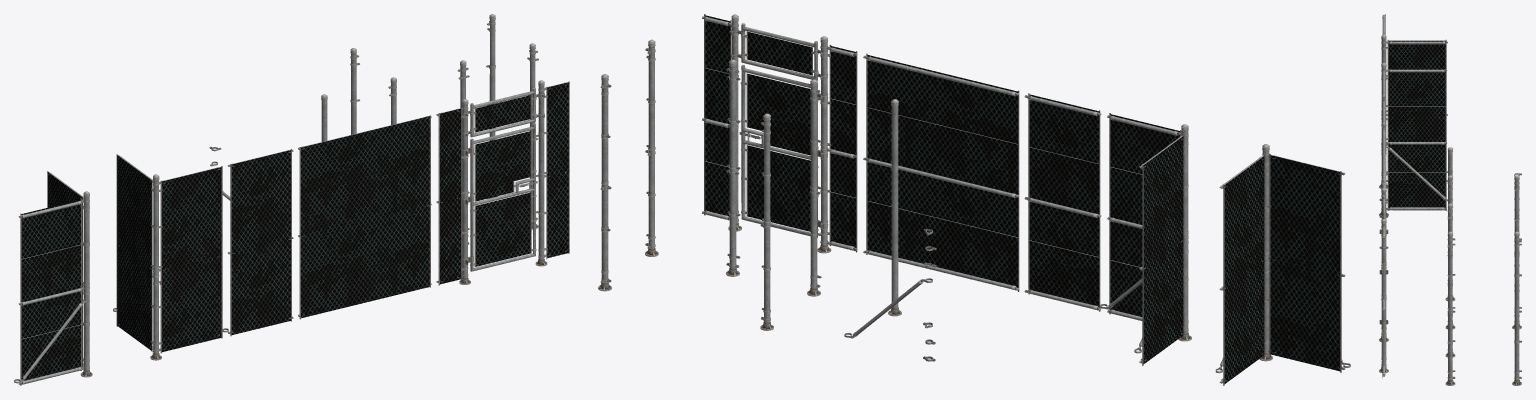
The model's file is modular_chainlink_fence.glb.
3 views of the same model, side by side, from view 1: azimuth 30°, elevation 25°; view 2: azimuth 150°, elevation 25°; view 3: azimuth 270°, elevation 25° (orthographic). The views are drawn at different scales.
Parts seen in each view (by area): view 1: modular_chainlink_fence_door_gate, modular_chainlink_fence_door_latch; view 2: modular_chainlink_fence_door_gate, modular_chainlink_fence_door_latch; view 3: modular_chainlink_fence_door_gate, modular_chainlink_fence_door_latch.
Boxes of the visible parts, x1,y1,x2,y2 form: modular_chainlink_fence_door_gate: (21, 82, 568, 383); modular_chainlink_fence_door_latch: (14, 14, 569, 385); modular_chainlink_fence_door_gate: (705, 15, 1339, 383); modular_chainlink_fence_door_latch: (598, 14, 1350, 385); modular_chainlink_fence_door_gate: (1388, 40, 1445, 210); modular_chainlink_fence_door_latch: (1379, 14, 1521, 385).
Size of the model in its own units: 8.12 by 2.52 by 2.15.
Materials: 2 (2 with a texture image).
